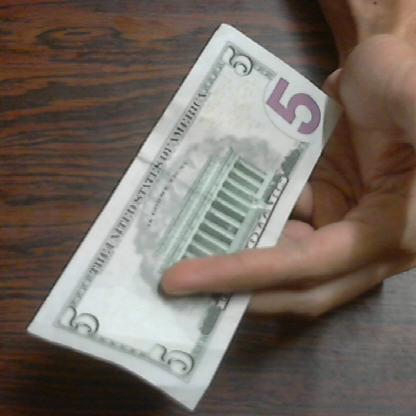five-back: (29, 6, 351, 410)
